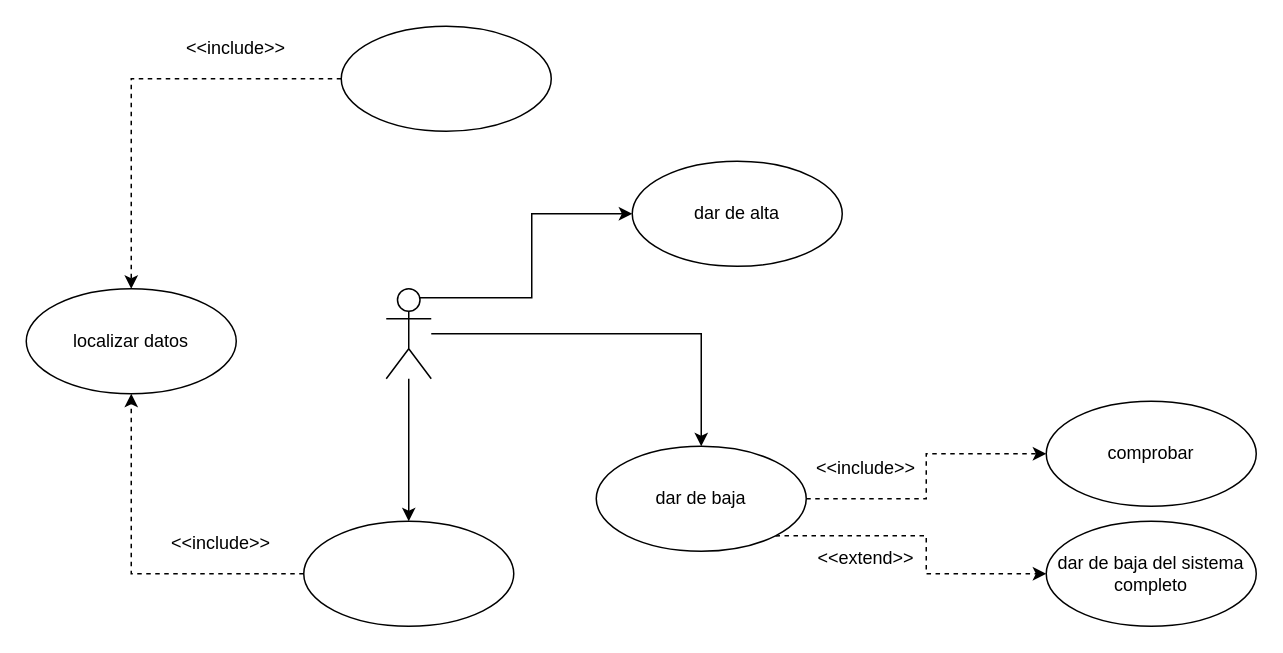
Image size: 1283x653. Some labels were removed from this diagram. The centre of each missing label's shape, as x and y in pixels:
"consultar" belongs at (x=408, y=573).
"Director" belongs at (x=408, y=333).
"modificar" belongs at (x=445, y=78).
